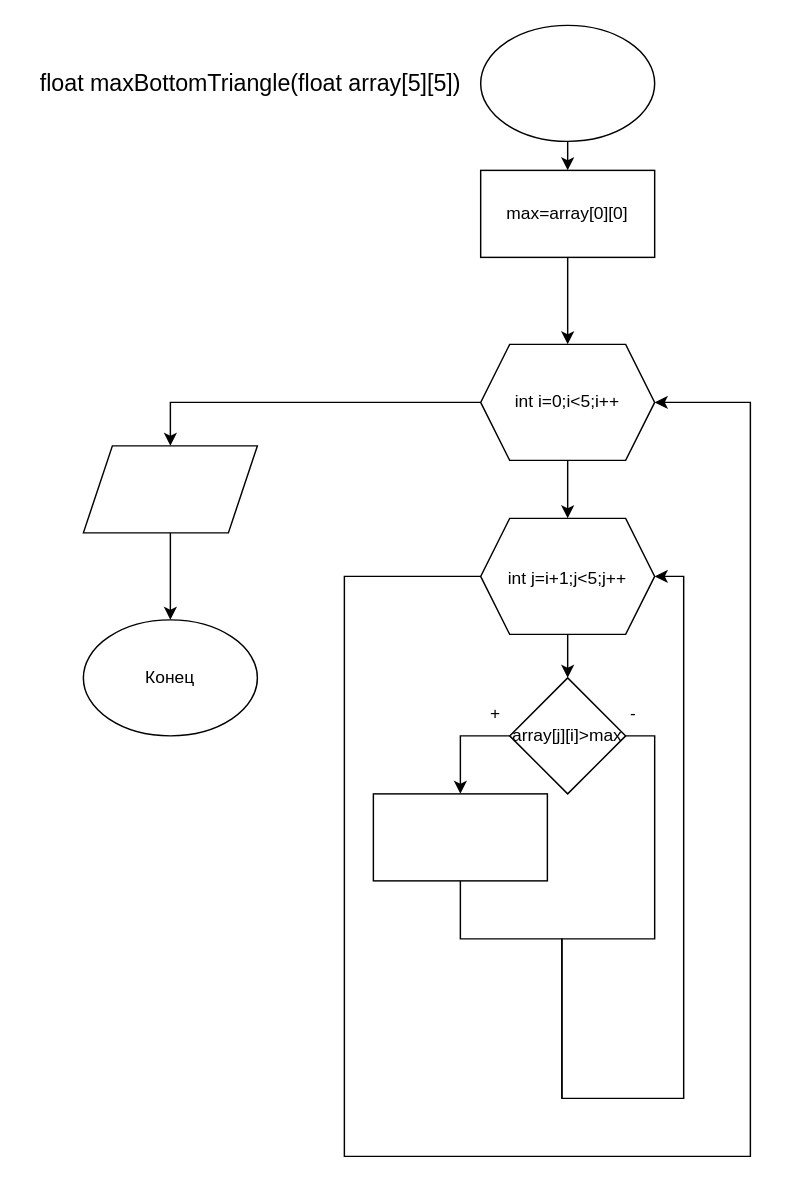
This 787x1193 diagram has some shape labels left out. The shapes that lost their labels are listed below. From the top down, each one's centre as x and y in pixels, then its label:
point (567, 82): Начало
point (169, 488): return max
point (459, 836): max = array[j][i];
